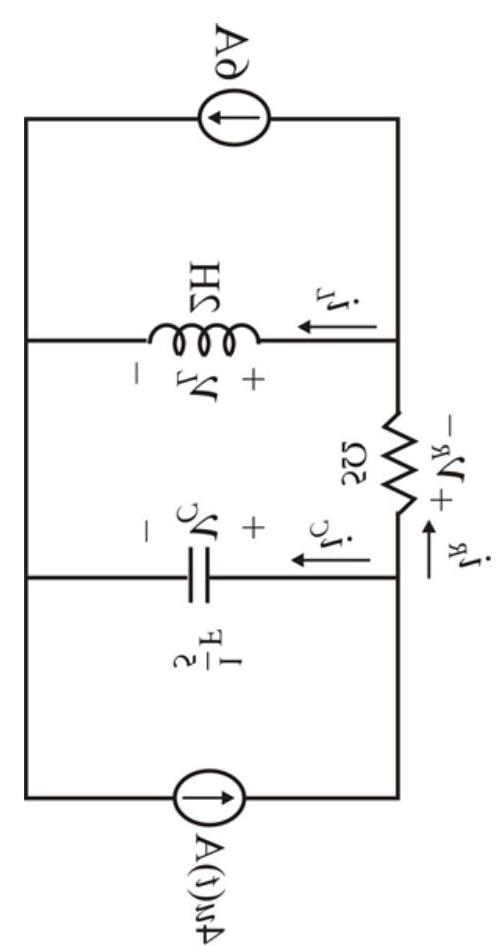Capacitor: (157, 535, 244, 619)
